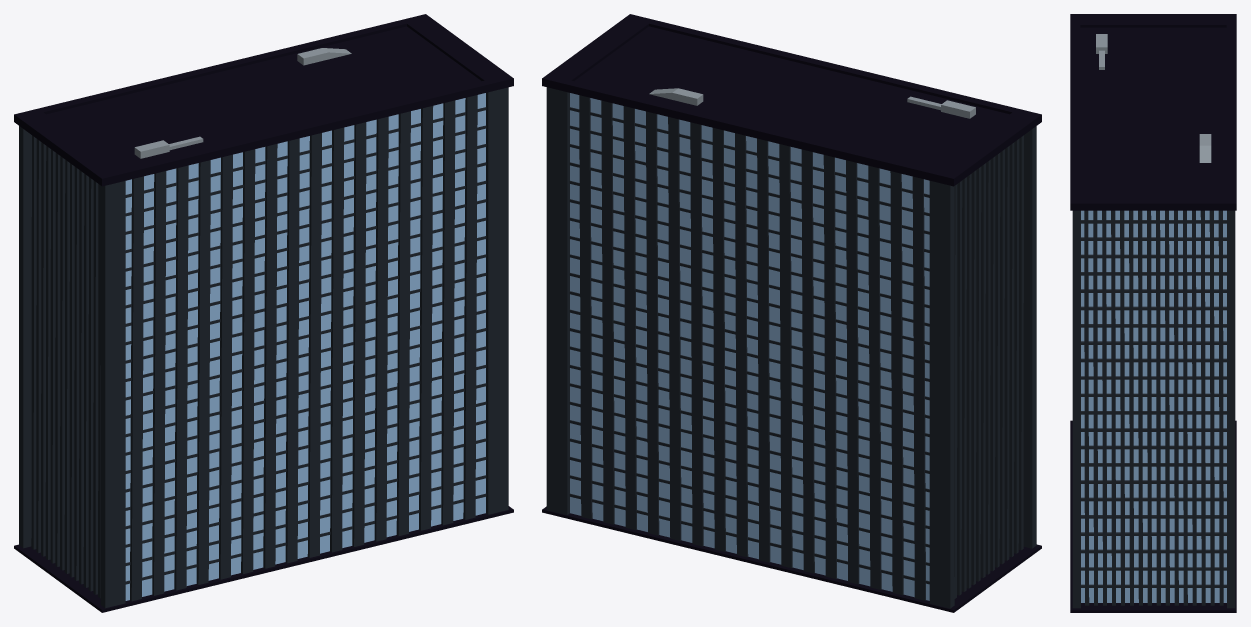
File: Tower2.glb
The picture shows the model from 3 angles, left to right: view 1: azimuth 30°, elevation 25°; view 2: azimuth 150°, elevation 25°; view 3: azimuth 270°, elevation 25°; orthographic projection. The views are drawn at different scales.
Parts seen in each view (by area): view 1: wall1.002, Glass.001, roof.002, wall3.002, floors.002, cornerstone1.002, cornerstone3.002, cornerstone4.002, base.001; view 2: wall2.002, Glass.001, roof.002, wall3.002, floors.002, cornerstone4.002, cornerstone2.001, cornerstone1.002, base.001; view 3: roof.002, wall4.002, Glass.001, floors.002, cornerstone3.002, cornerstone2.001, base.001, top.
Boxes of the visible parts, x1,y1,x2,y2 form: wall1.002: [130, 95, 477, 601]; Glass.001: [125, 93, 485, 600]; roof.002: [14, 14, 513, 186]; wall3.002: [31, 135, 100, 598]; floors.002: [125, 107, 486, 584]; cornerstone1.002: [100, 181, 125, 608]; cornerstone3.002: [486, 87, 508, 514]; cornerstone4.002: [19, 126, 31, 548]; base.001: [14, 506, 513, 612]; wall2.002: [579, 95, 925, 600]; Glass.001: [570, 93, 929, 600]; roof.002: [542, 14, 1041, 186]; wall3.002: [954, 135, 1023, 598]; floors.002: [569, 107, 929, 584]; cornerstone4.002: [929, 181, 954, 608]; cornerstone2.001: [546, 87, 569, 514]; cornerstone1.002: [1023, 126, 1036, 548]; base.001: [542, 506, 1041, 612]; roof.002: [1070, 14, 1236, 210]; wall4.002: [1084, 210, 1223, 605]; Glass.001: [1081, 210, 1226, 602]; floors.002: [1081, 220, 1226, 587]; cornerstone3.002: [1072, 210, 1080, 608]; cornerstone2.001: [1227, 210, 1235, 608]; base.001: [1070, 420, 1236, 612]; top: [1199, 134, 1211, 162].
Size of the model in its own units: 54 by 54.94 by 20.
